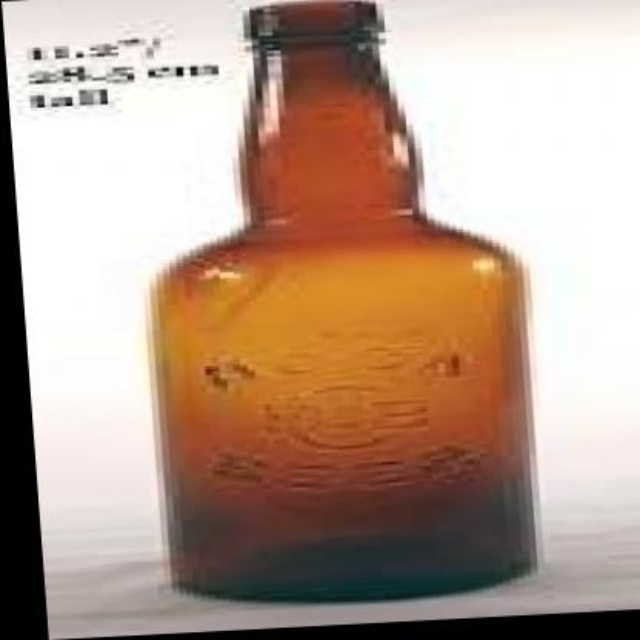trash: (152, 2, 535, 598)
